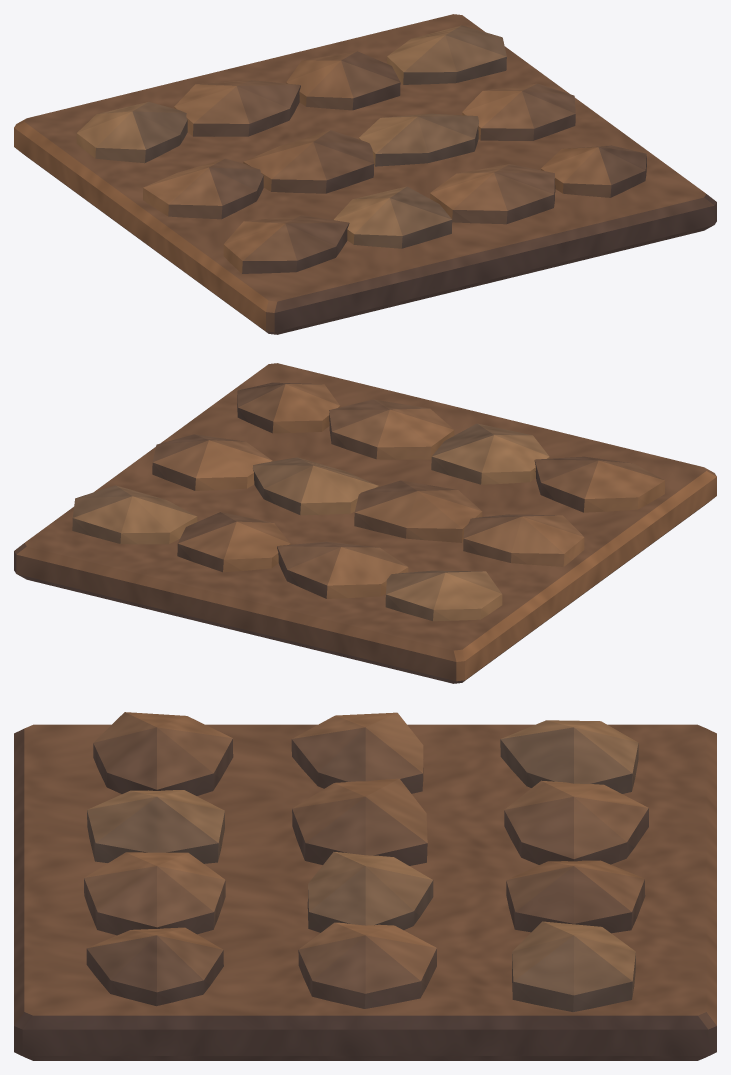
Rendered from wet_soil.glb.
3 renders of one model, top to bottom at view 1: azimuth 30°, elevation 25°; view 2: azimuth 150°, elevation 25°; view 3: azimuth 270°, elevation 25°, orthographic. The views are drawn at different scales.
Parts seen in each view (by area): view 1: Beet · frisch gegossene Erde; view 2: Beet · frisch gegossene Erde; view 3: Beet · frisch gegossene Erde.
Part boxes in pixels (box(x1,y1,x2,y2)): Beet · frisch gegossene Erde: box(14, 14, 716, 334); Beet · frisch gegossene Erde: box(14, 363, 716, 683); Beet · frisch gegossene Erde: box(14, 712, 716, 1060).
Bounding box in the file's own units: 1.15 × 0.16 × 1.14.
Materials: 1 (1 with a texture image).
